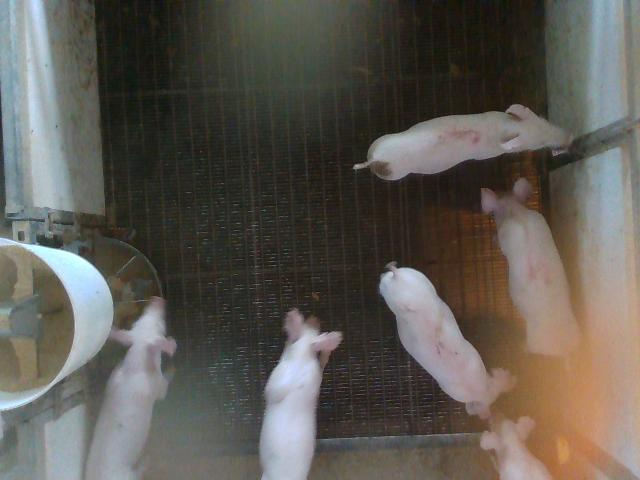pig-4: (482, 180, 580, 356)
pig-5: (354, 104, 572, 180)
